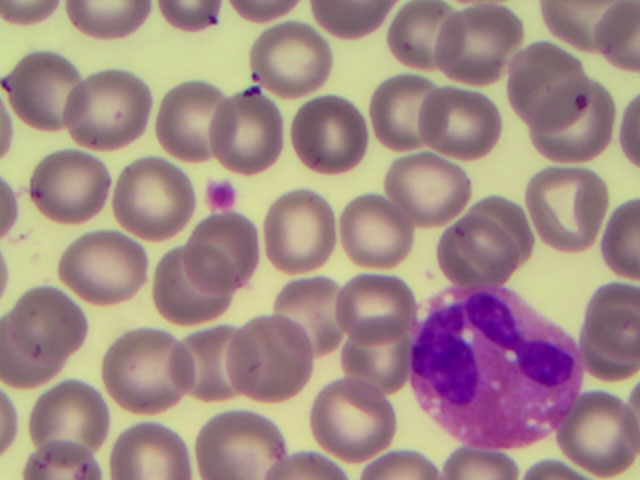Platelets: (203, 177, 243, 215)
RBC: (6, 46, 85, 127), (72, 72, 151, 153), (149, 81, 228, 162), (214, 94, 293, 175), (295, 95, 374, 176), (250, 21, 329, 102), (369, 71, 448, 152), (419, 85, 498, 166), (505, 47, 584, 128), (537, 81, 616, 162), (438, 9, 517, 90), (387, 145, 466, 226), (334, 188, 413, 269), (263, 191, 342, 272), (183, 206, 262, 287), (150, 245, 229, 326), (117, 156, 196, 237), (29, 146, 108, 227), (64, 224, 143, 305), (11, 287, 90, 368), (114, 330, 193, 411), (32, 376, 111, 457), (171, 322, 250, 403), (225, 319, 304, 400), (277, 276, 356, 357), (336, 267, 415, 348), (334, 314, 413, 395), (312, 372, 391, 453), (200, 399, 279, 480), (561, 399, 640, 480), (561, 284, 640, 365), (532, 167, 611, 248), (464, 190, 543, 271), (426, 216, 505, 297), (384, 1, 463, 81)
WBC: (416, 281, 578, 448)
